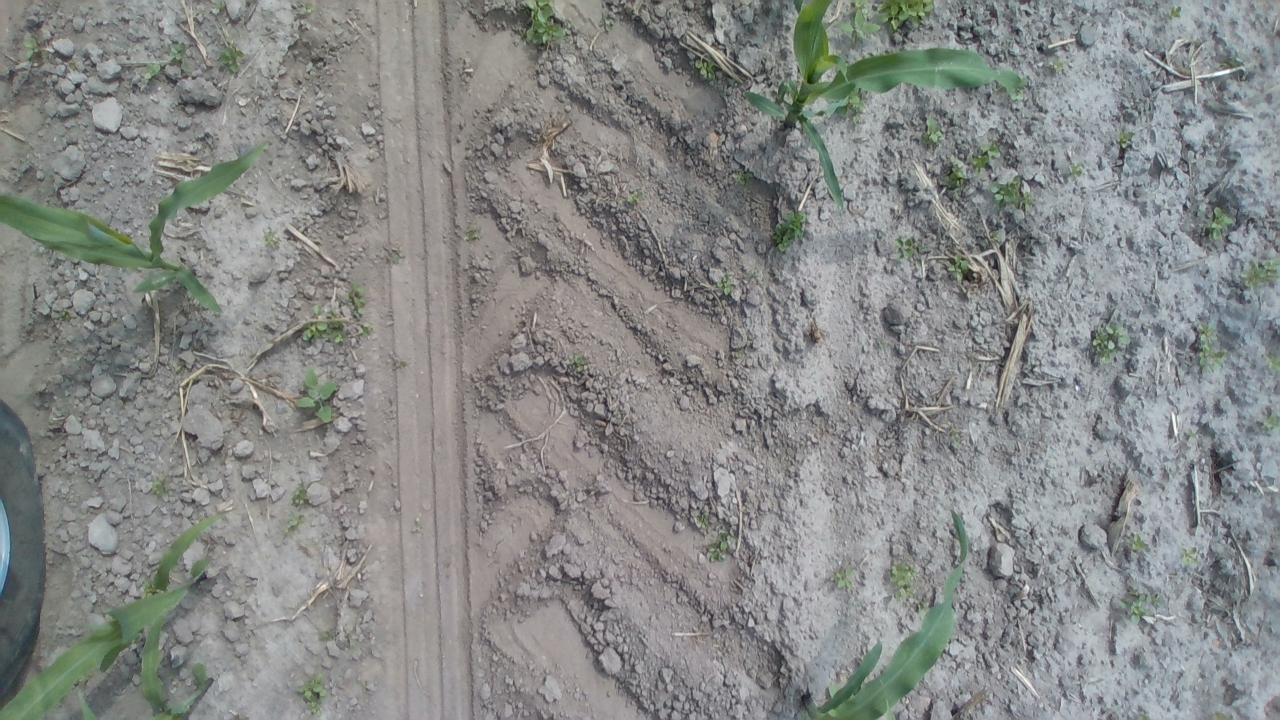Maize: (739, 0, 1030, 213), (0, 510, 228, 720), (2, 144, 268, 316), (804, 506, 972, 720)
Weeds: (298, 282, 374, 344), (292, 364, 338, 423), (888, 558, 932, 616), (521, 0, 570, 46), (838, 0, 881, 48), (1115, 588, 1167, 627), (877, 1, 935, 34), (1194, 320, 1228, 376), (1092, 320, 1132, 364), (769, 209, 807, 254), (990, 175, 1036, 212), (296, 670, 330, 718), (1238, 256, 1278, 291), (702, 528, 738, 562), (969, 139, 1001, 176), (938, 158, 968, 196), (216, 40, 247, 74), (1207, 207, 1235, 243), (837, 93, 867, 125), (167, 41, 191, 75), (829, 563, 855, 592), (922, 114, 944, 147), (893, 234, 920, 260), (1125, 528, 1149, 556), (946, 255, 970, 282), (693, 56, 717, 80), (1178, 544, 1200, 569), (22, 32, 40, 62), (568, 351, 590, 374), (1114, 126, 1136, 148), (284, 510, 305, 533), (148, 476, 170, 497), (716, 272, 734, 296), (262, 228, 282, 248), (692, 510, 712, 530), (288, 483, 306, 505), (732, 167, 752, 186), (462, 224, 482, 243), (1259, 412, 1277, 432), (144, 62, 162, 81), (15, 156, 30, 178), (1214, 57, 1240, 69), (386, 246, 405, 262), (1006, 87, 1026, 102), (1068, 162, 1086, 178), (625, 190, 643, 206), (56, 303, 72, 321), (1262, 352, 1276, 372), (1166, 4, 1182, 21), (1048, 57, 1066, 72), (142, 579, 156, 598), (601, 15, 617, 31), (300, 1, 317, 16), (318, 628, 334, 642), (410, 516, 422, 534), (170, 358, 184, 373), (211, 0, 225, 15), (986, 229, 1002, 242), (122, 232, 138, 245), (877, 338, 889, 352), (949, 430, 960, 445), (1184, 430, 1198, 440), (0, 65, 12, 76)
